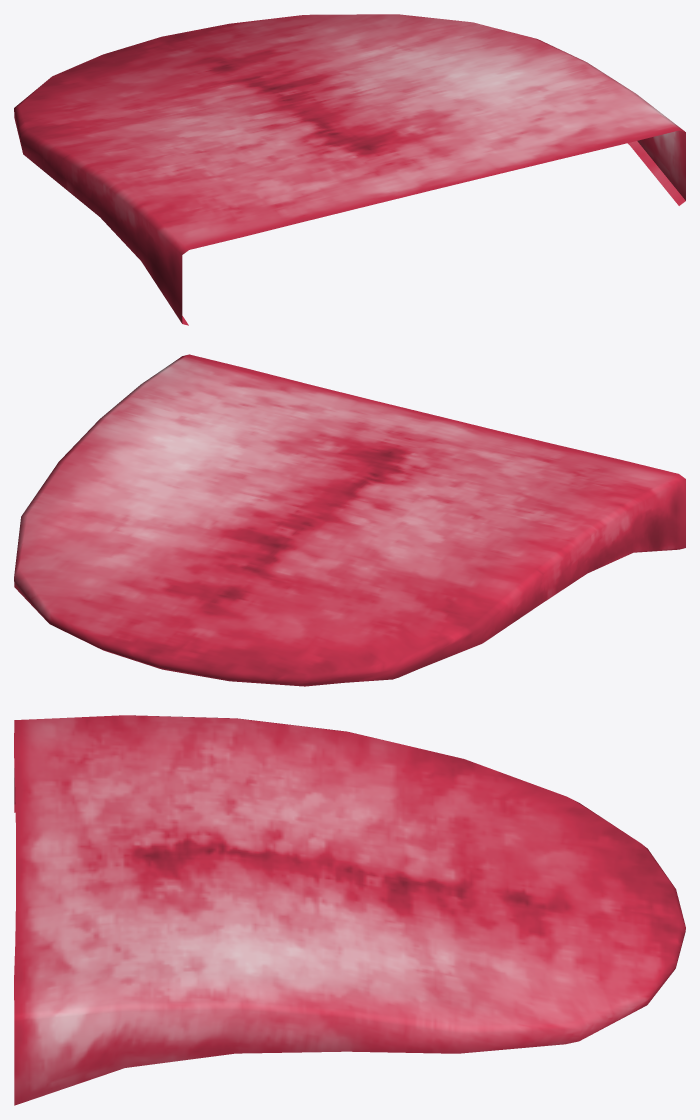
The model's file is furryYellowTongue.fbx.
3 views of the same model, one above another, from view 1: azimuth 30°, elevation 25°; view 2: azimuth 150°, elevation 25°; view 3: azimuth 270°, elevation 25° (orthographic). The views are drawn at different scales.
Visible parts, largest first — view 1: pCube19; view 2: pCube19; view 3: pCube19.
Boxes of the visible parts, box(x1,y1,x2,y2) form: pCube19: box(14, 14, 685, 325); pCube19: box(14, 354, 685, 686); pCube19: box(14, 715, 685, 1105).
Bounding box in the file's own units: 1.95 × 0.3019 × 1.84.
